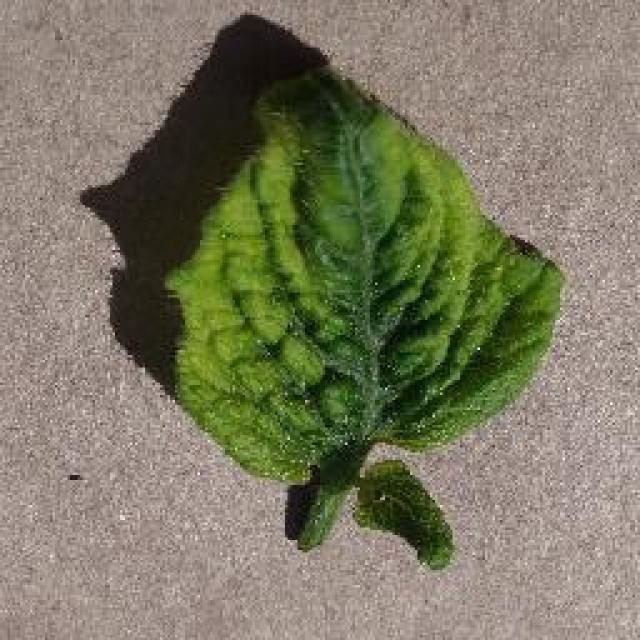Tom_Yellow_Leaf_Curl_Virus: (191, 111, 551, 511)
